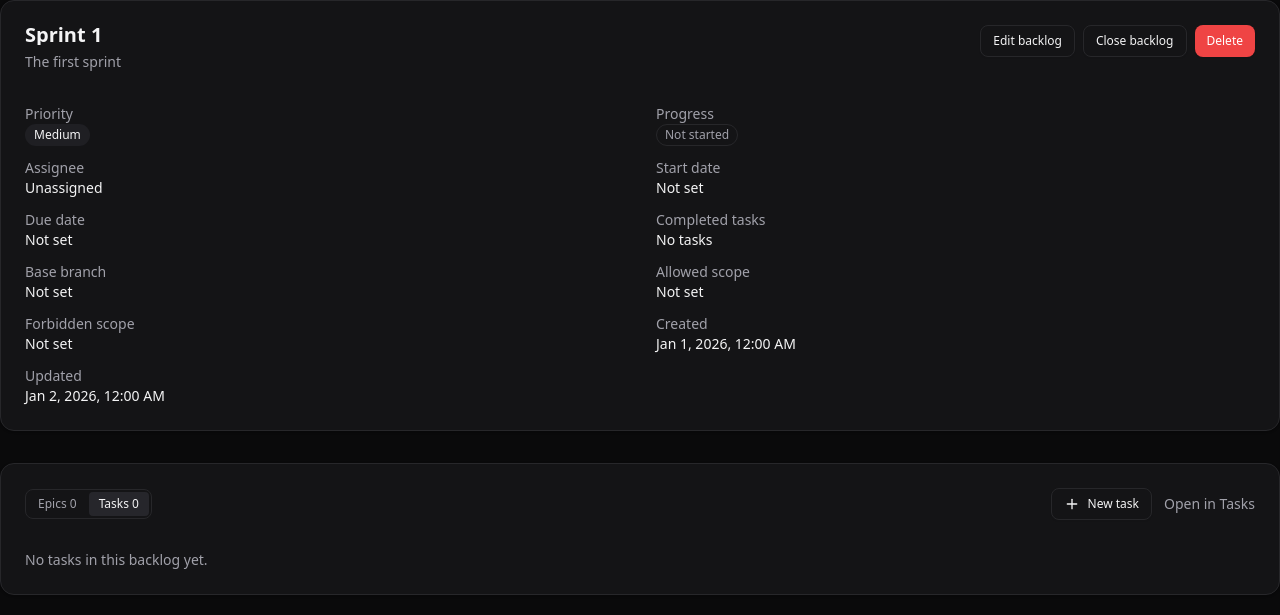
it: closing a backlog › reports a failure and leaves the backlog open
What coordinates should you click on to do the following:
click the button "Close backlog"
I would click on:
 (1135, 41)
Its box is [1083,25,1186,57].
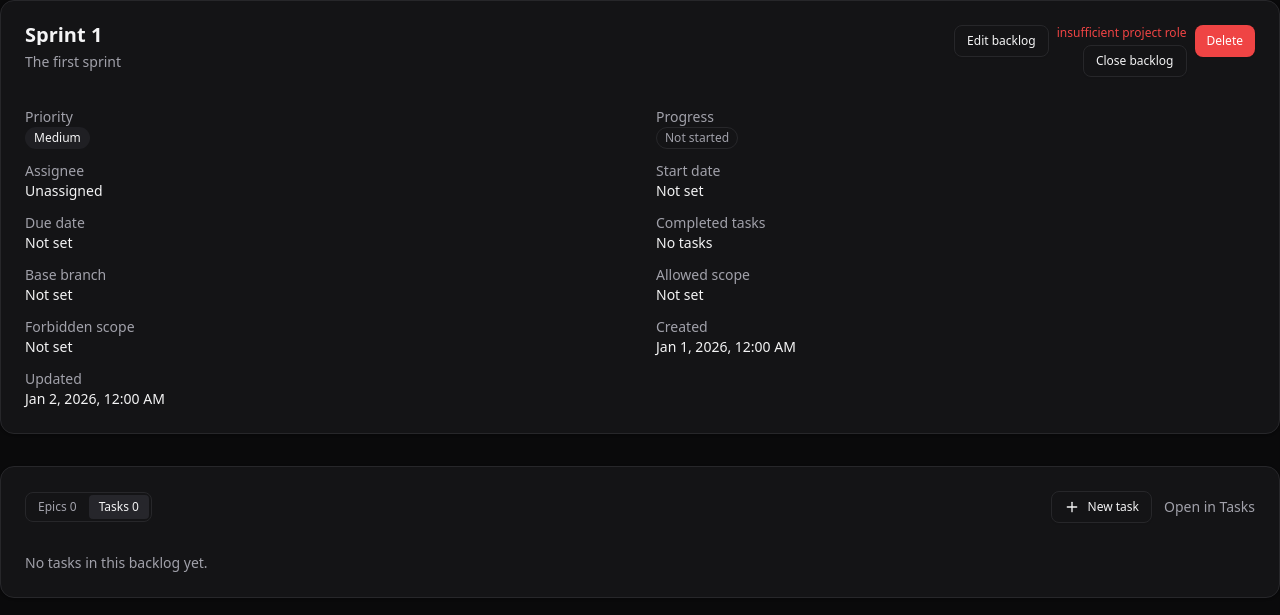
Expected: the text "insufficient project role" is shown, [1057,25,1186,41]
